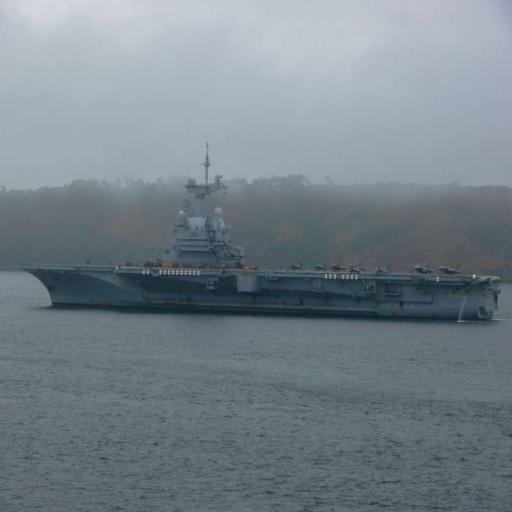Portanaves: (15, 137, 507, 324)
